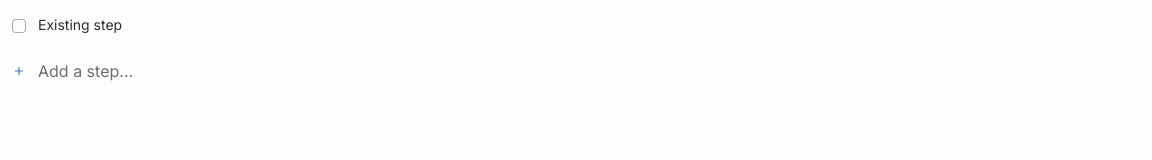
it: SubtaskList - keyboard navigation contract › clears draft text and blurs input without collapsing when Escape is pressed
Step 1. Type "Draft in progress" into the field with placeholder "Add a step..." → (589, 71), box [38,55,1140,87]
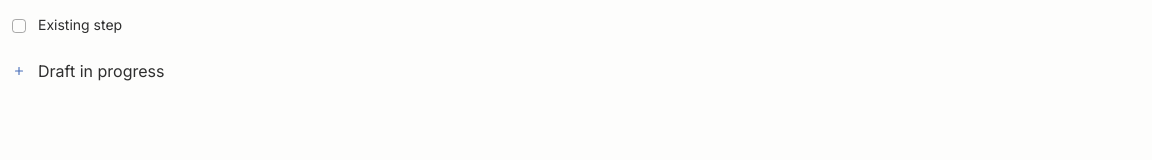
Step 2. Press Escape in the field with placeholder "Add a step...", box [38,55,1140,87]
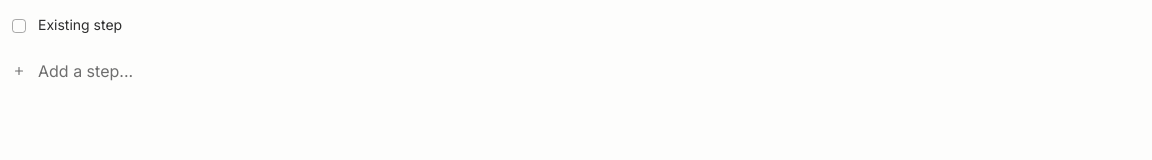
Expected: the button "Existing step" is shown, [38,16,122,33]
Expected: the field with placeholder "Add a step..." is empty, [38,55,1140,87]
